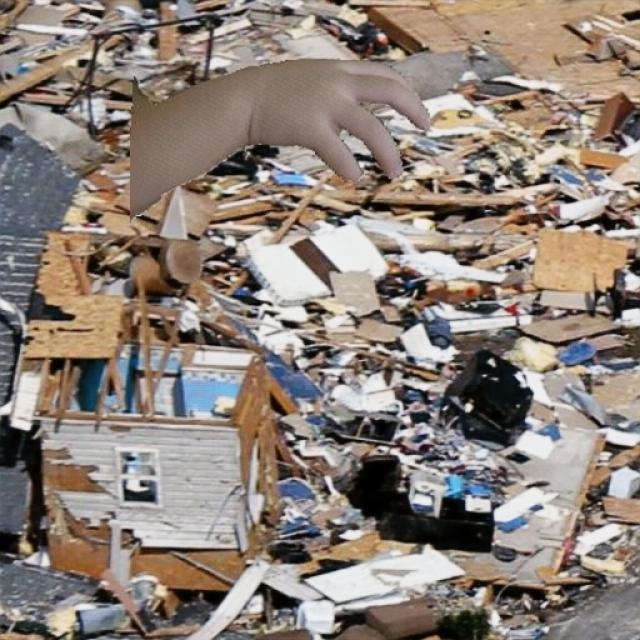Person in Rubble: (130, 58, 429, 222)
